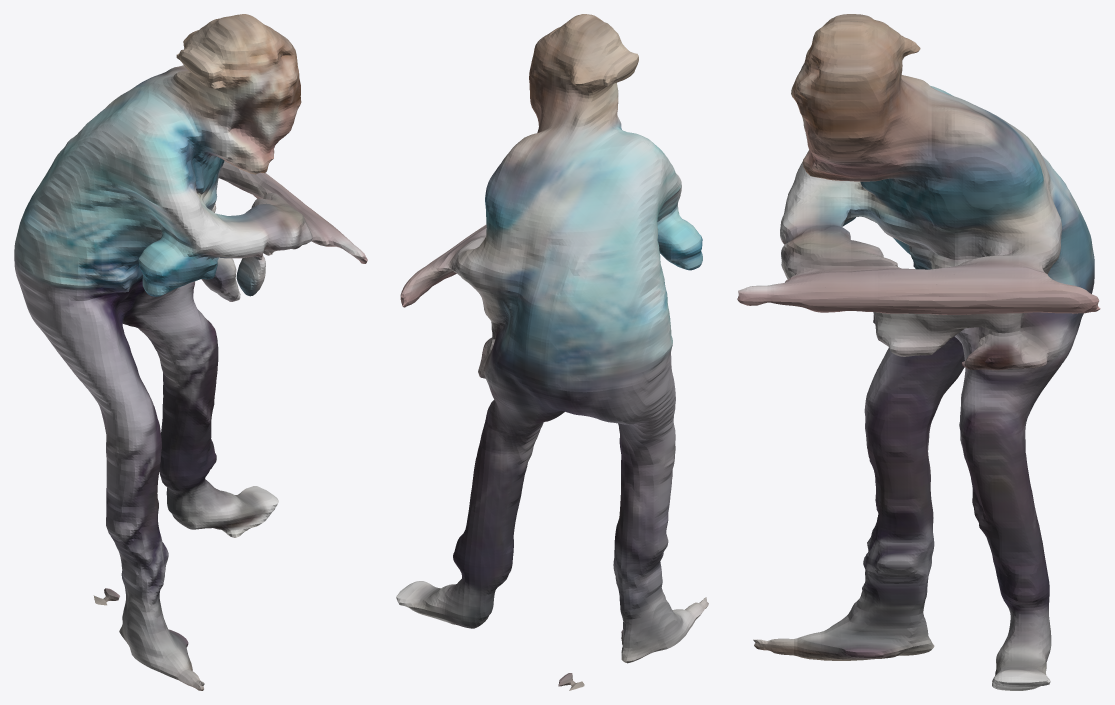
Rendered from 0075_tex.glb.
The picture shows the model from 3 angles, left to right: view 1: azimuth 30°, elevation 25°; view 2: azimuth 150°, elevation 25°; view 3: azimuth 270°, elevation 25°; orthographic projection. The views are drawn at different scales.
Visible parts, largest first — view 1: 0075_tex.obj; view 2: 0075_tex.obj; view 3: 0075_tex.obj.
Boxes of the visible parts, bbox=[...] form: 0075_tex.obj: bbox=[14, 14, 367, 690]; 0075_tex.obj: bbox=[396, 14, 708, 690]; 0075_tex.obj: bbox=[737, 14, 1100, 690].
Bounding box in the file's own units: 0.3725 × 0.8751 × 0.4239.
